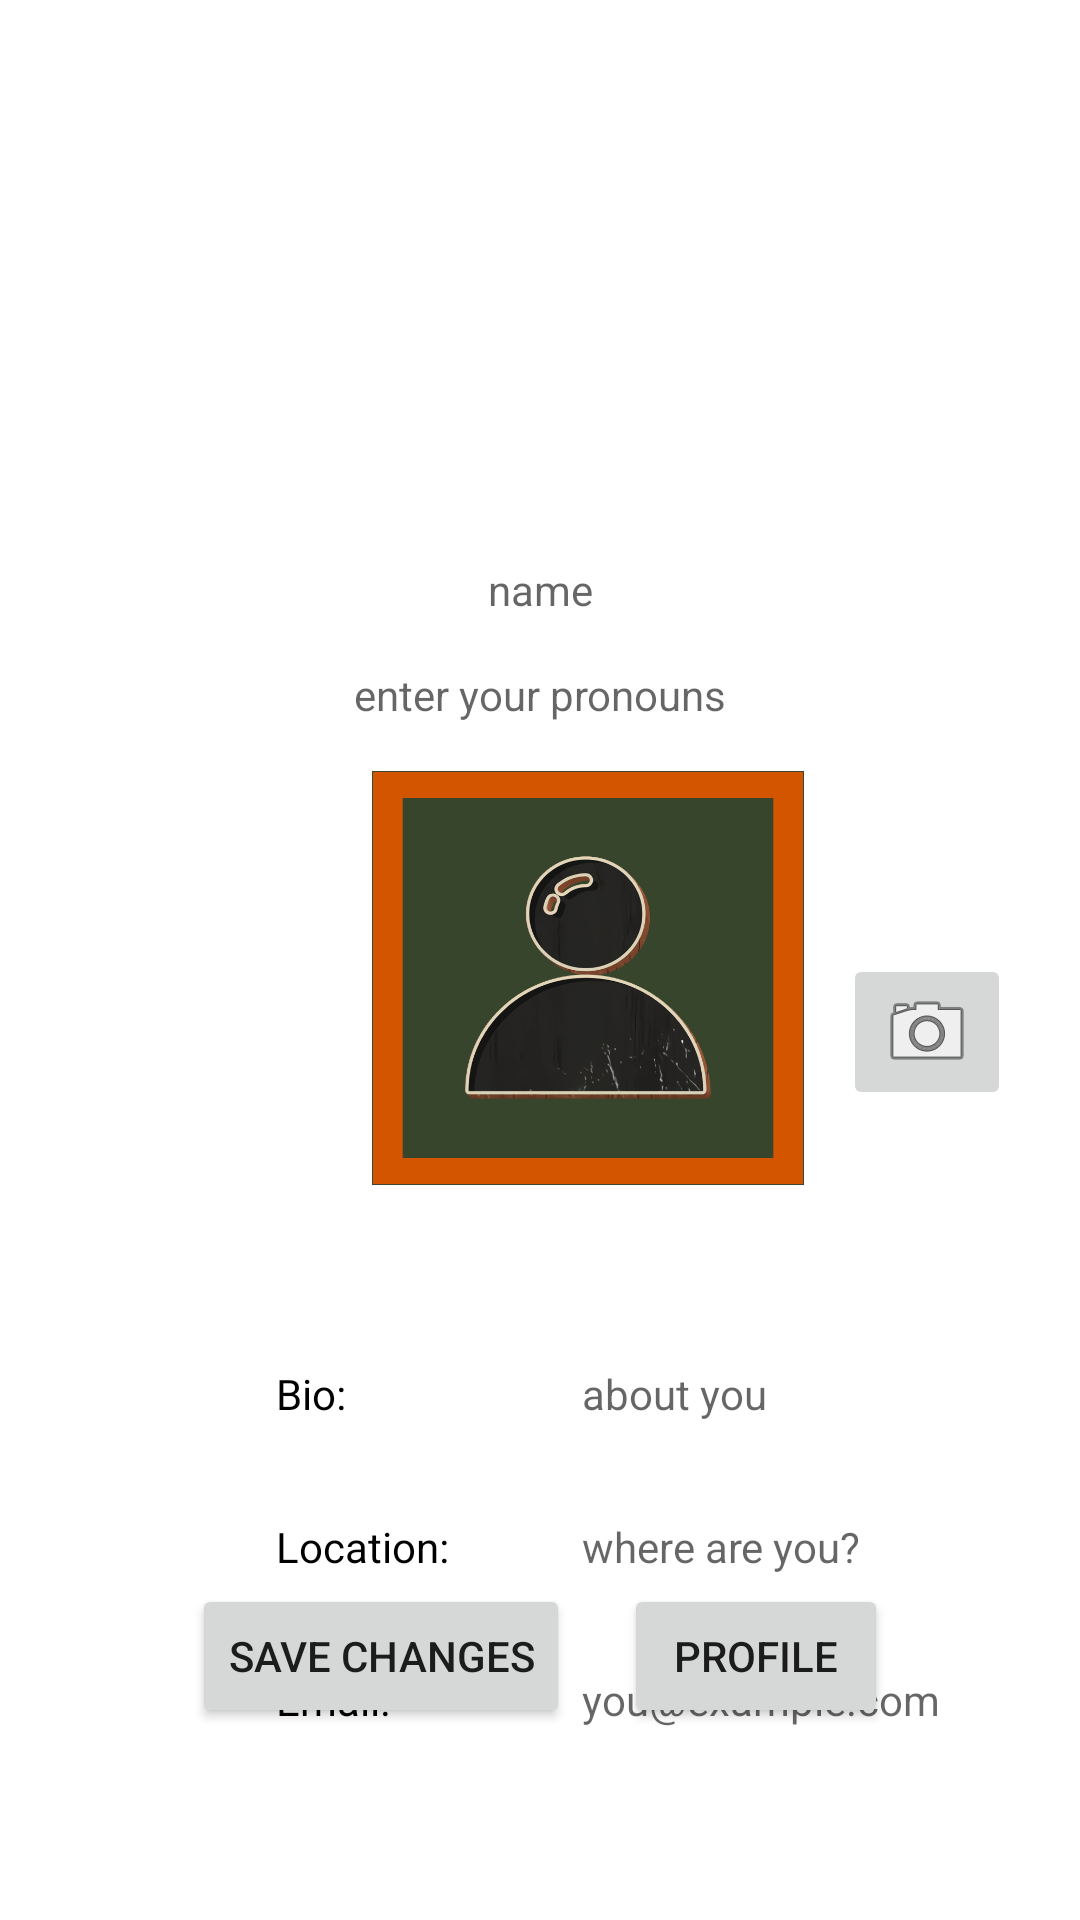

Icon click points for this 1080*1920 phone screenshot, format (x,y):
camera: (927,1032)
